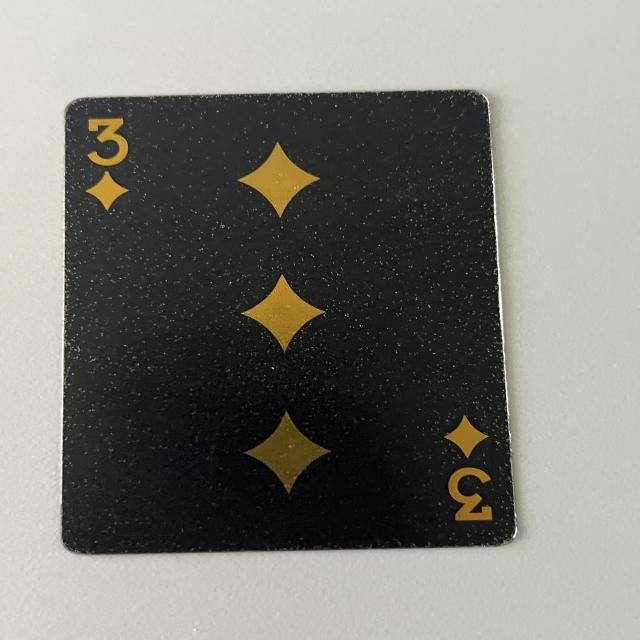3D: (438, 412, 506, 528), (79, 116, 139, 217)
